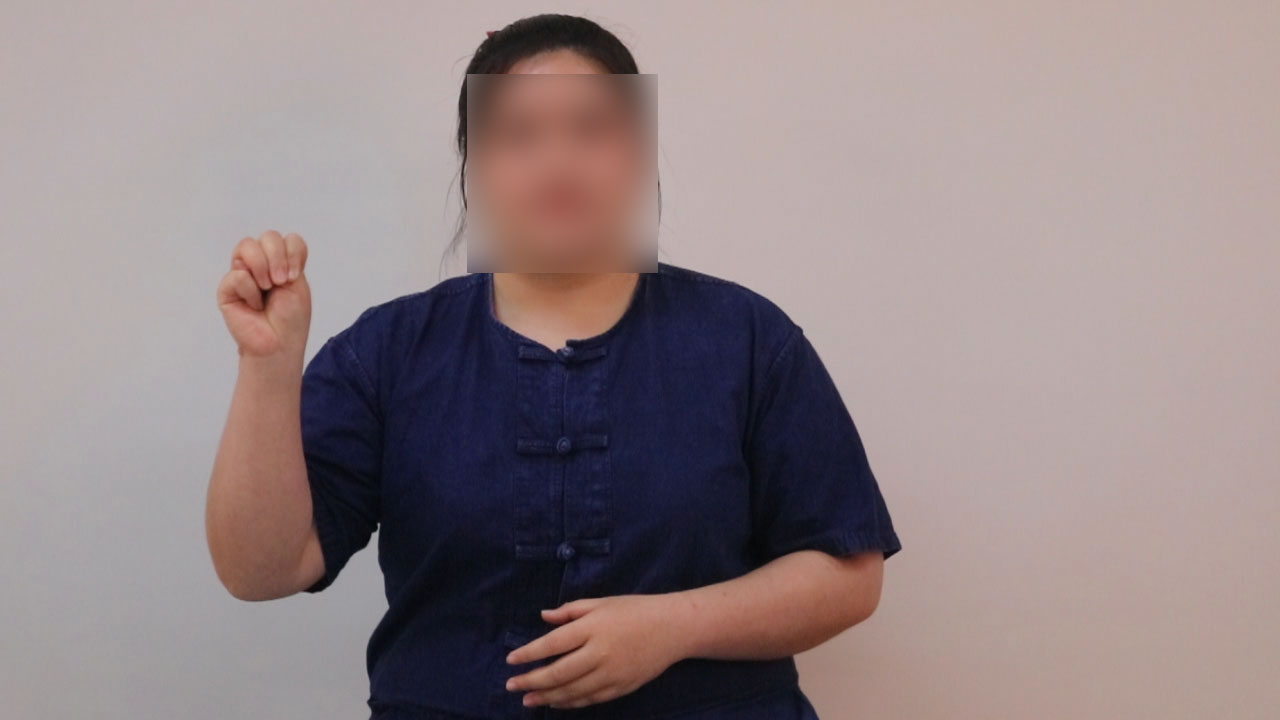mor: (206, 218, 320, 381)
